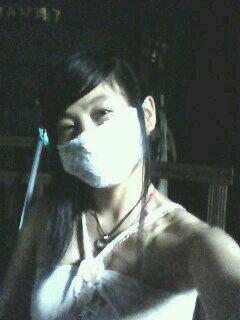OK: (55, 98, 145, 188)
